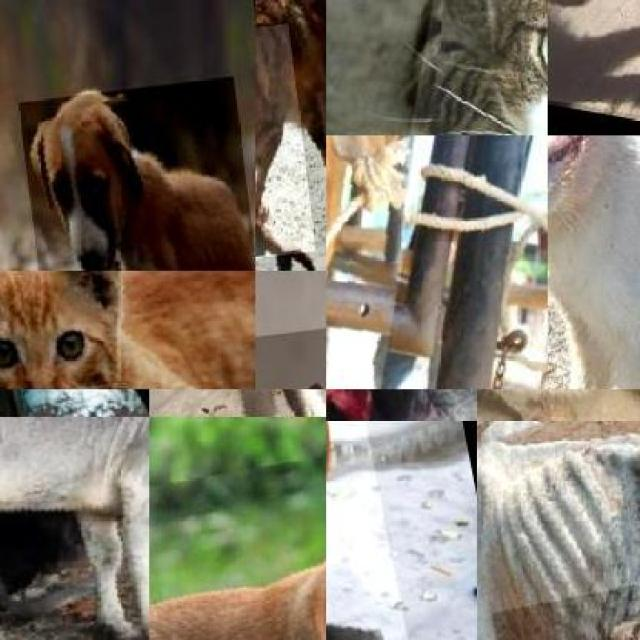cat: (0, 270, 255, 389), (389, 0, 547, 135)
cow: (326, 136, 468, 390), (477, 420, 640, 640), (0, 417, 149, 640), (326, 420, 471, 640)
dog: (17, 75, 255, 271), (149, 427, 326, 640), (256, 0, 326, 271)
injured: (256, 22, 316, 264), (489, 544, 640, 640), (547, 135, 640, 193)
